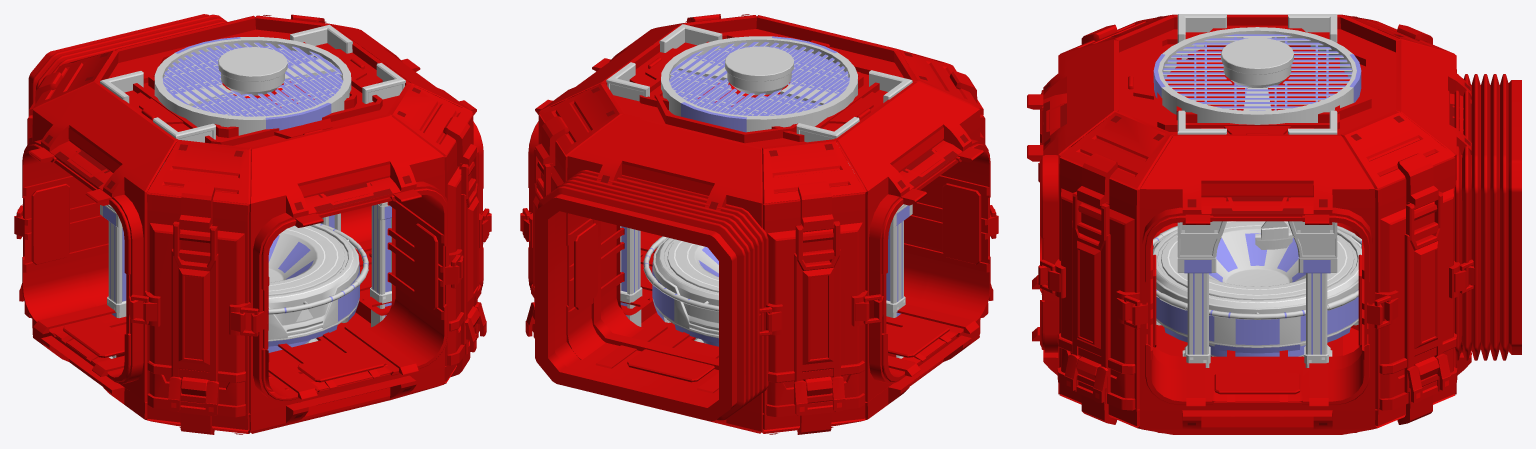
The model's file is MiniDispenser0.4.ex.fbx.
3 views of the same model, side by side, from view 1: azimuth 30°, elevation 25°; view 2: azimuth 150°, elevation 25°; view 3: azimuth 270°, elevation 25° (orthographic). The views are drawn at different scales.
Parts seen in each view (by area): view 1: SM_SmartSplitter; view 2: SM_SmartSplitter; view 3: SM_SmartSplitter.
Boxes of the visible parts, x1,y1,x2,y2 form: SM_SmartSplitter: (14, 14, 491, 434); SM_SmartSplitter: (520, 14, 998, 434); SM_SmartSplitter: (1027, 14, 1521, 434).
Bounding box in the file's own units: 413 × 322 × 444.
